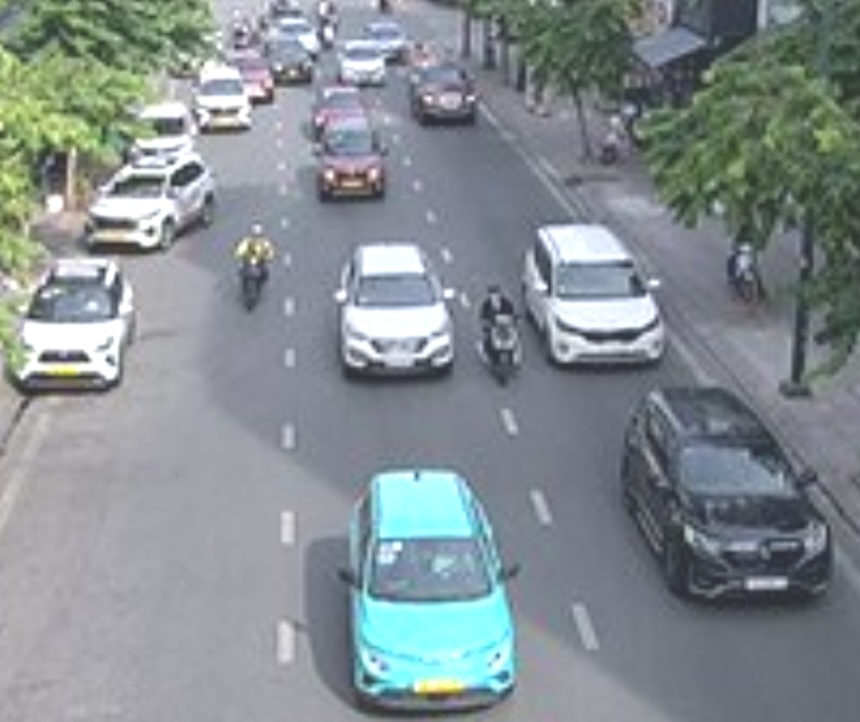car: (620, 389, 839, 611), (347, 467, 515, 707), (527, 221, 669, 369), (10, 259, 136, 396), (333, 241, 455, 373), (87, 152, 219, 252), (319, 115, 385, 203), (192, 62, 252, 135), (411, 64, 480, 127), (127, 103, 193, 157), (313, 82, 367, 124), (339, 40, 386, 86)
